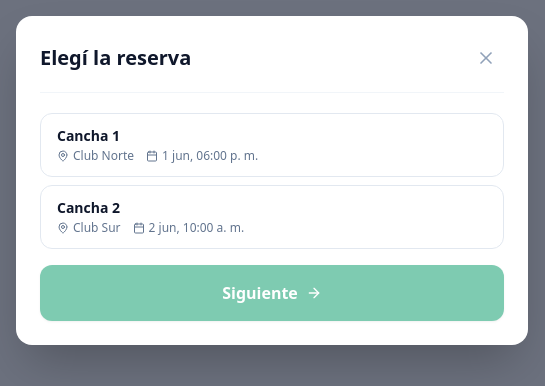
Test: ReportFromReservationModal › enables next button after selecting a reservation
Click the text "Cancha 1" at coordinates (89, 135), box top-left (57, 126), bottom-right (120, 144)
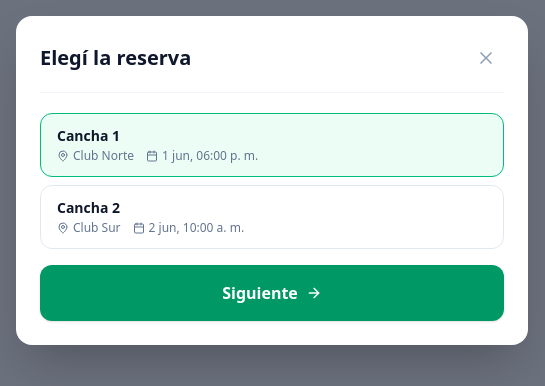
Result: the button "Siguiente" is enabled at top-left (40, 264), bottom-right (504, 320)
